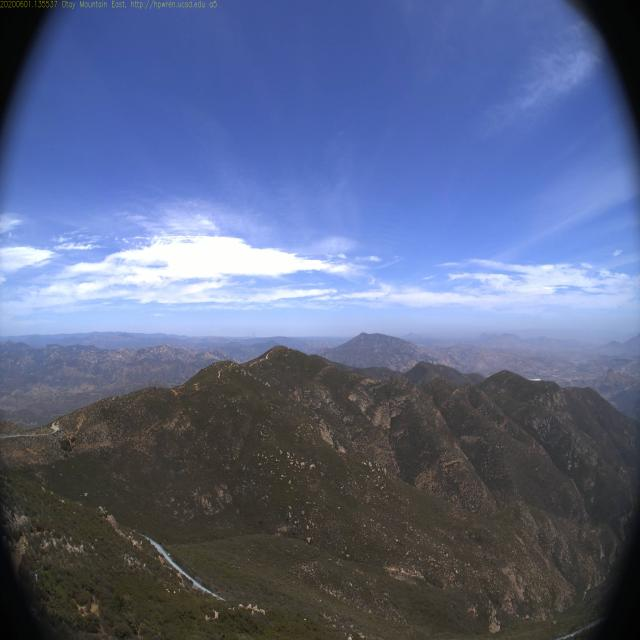smoke: (246, 323, 260, 338)
